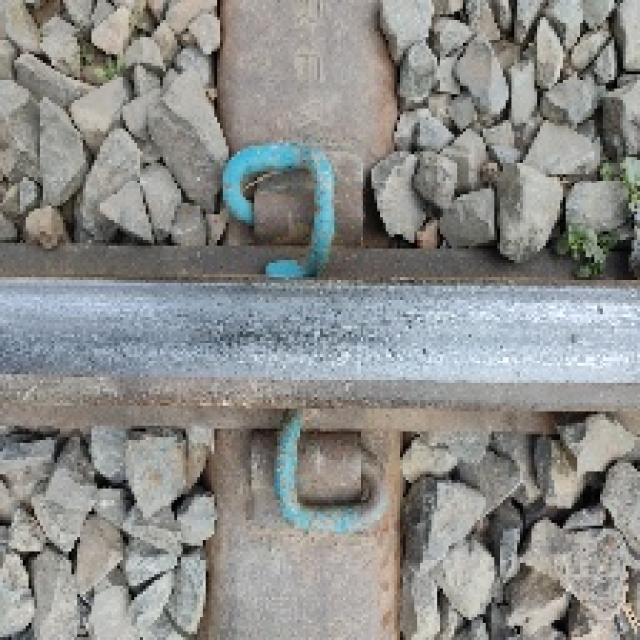Good Fasteners: (223, 143, 357, 274), (251, 411, 380, 529)
